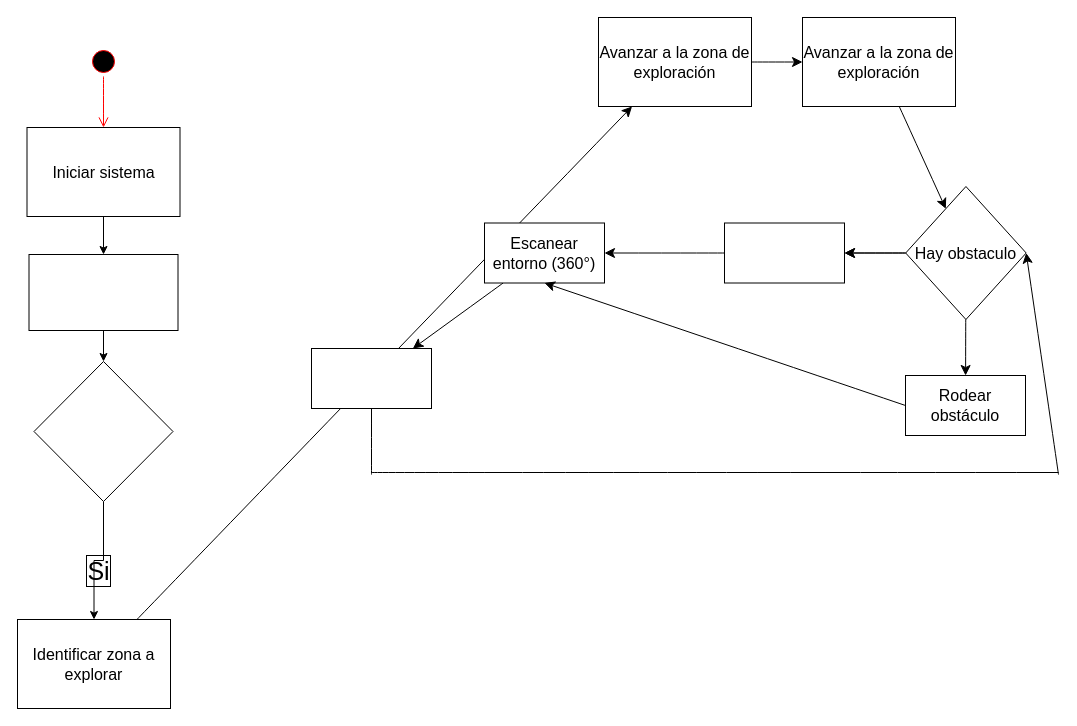
The diagram is 1077 pixels wide and 726 high, and some of its shapes have lost their labels. Here are the shapes that lost their labels. From the top down, the box of each, then its label:
(724, 222, 844, 283): Avanzar
(28, 254, 178, 330): Hacer diagnostico
(310, 348, 432, 408): Seguir avanzando
(33, 360, 173, 502): Todo en órden
